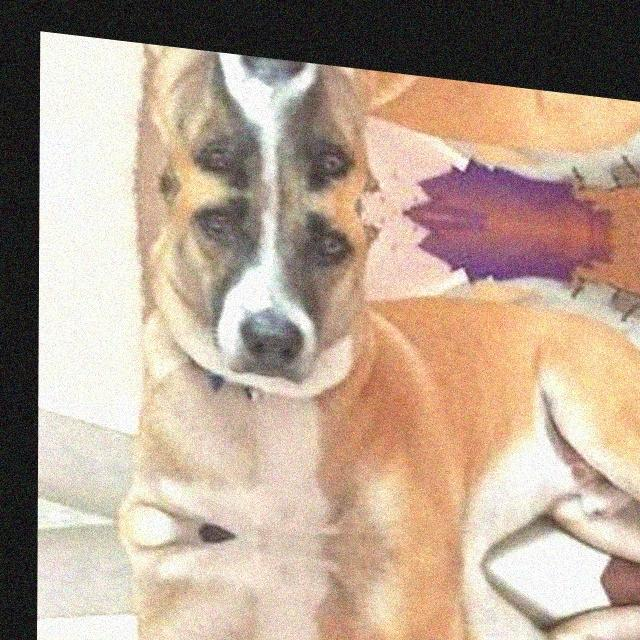dog: (96, 176, 453, 495), (98, 38, 454, 218), (95, 586, 451, 640)
